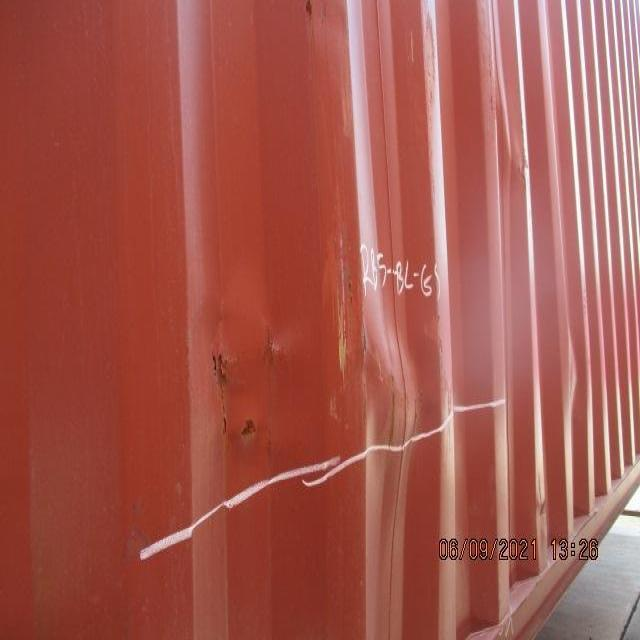dent: (119, 230, 501, 553), (479, 87, 534, 215)
